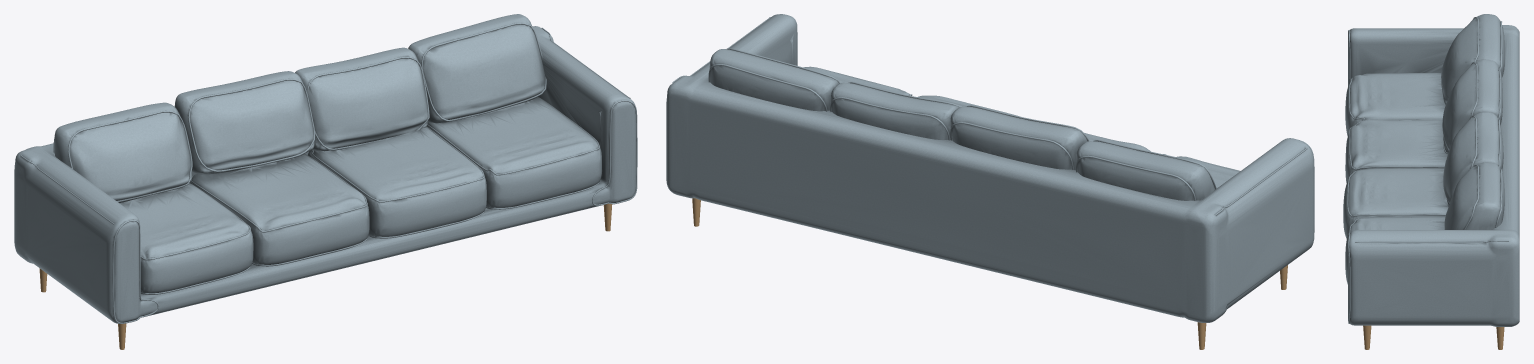
Rendered from pana-bruma.gltf.
3 views of the same model, side by side, from view 1: azimuth 30°, elevation 25°; view 2: azimuth 150°, elevation 25°; view 3: azimuth 270°, elevation 25° (orthographic). The views are drawn at different scales.
Parts seen in each view (by area): view 1: tela_ar, madera_ar; view 2: tela_ar, madera_ar; view 3: tela_ar, madera_ar.
Part boxes in pixels (x1,y1,x2,y2): tela_ar: (14, 14, 637, 323); madera_ar: (39, 203, 612, 349); tela_ar: (666, 14, 1314, 322); madera_ar: (692, 198, 1287, 349); tela_ar: (1343, 14, 1519, 326); madera_ar: (1363, 325, 1504, 349).
Size of the model in its own units: 2.7 by 0.8297 by 0.9224.
2 materials, 2 textured.
